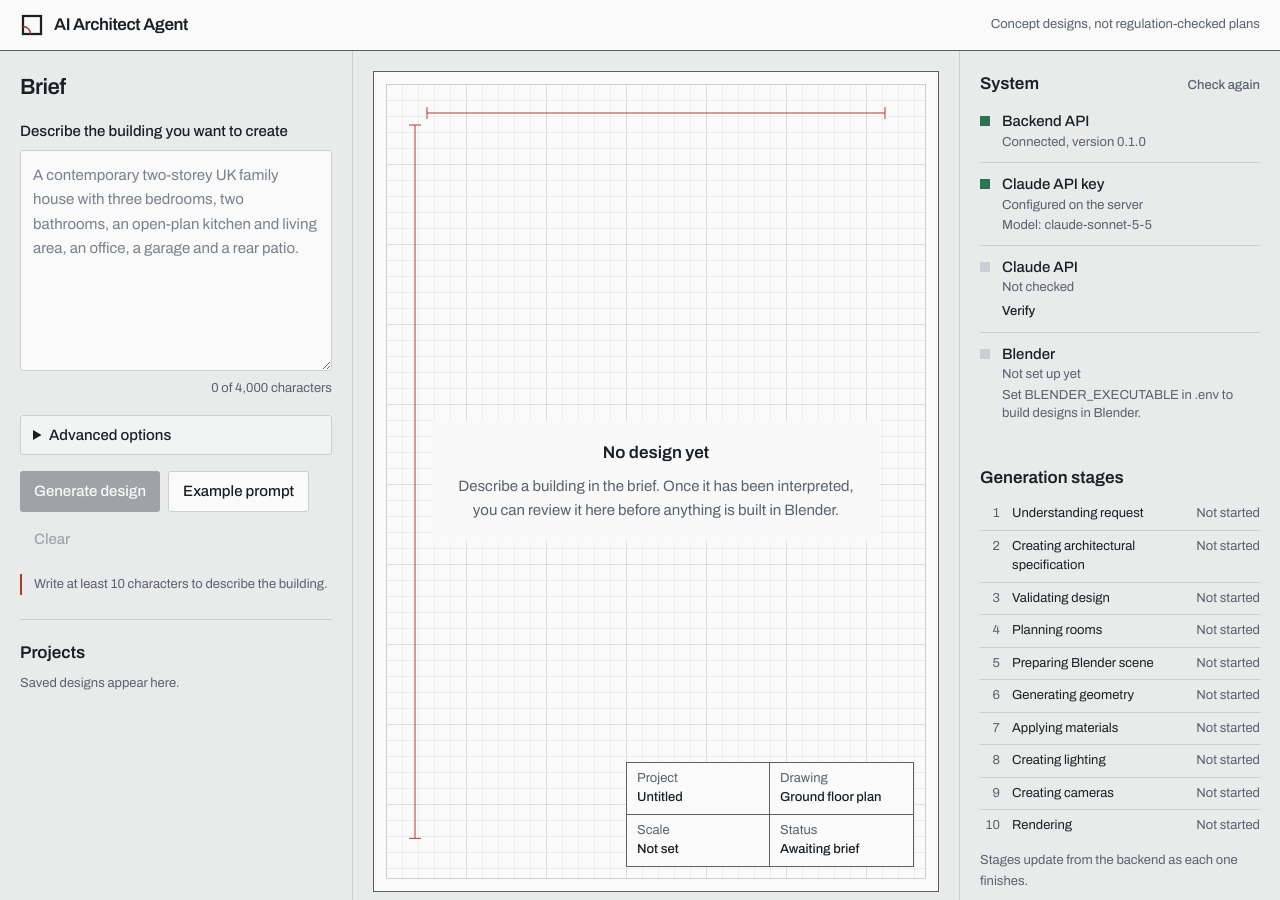
Scenario: App › explains a Claude billing error clearly, with Anthropic's reason in development
This screenshot has width=1280, height=900.
expect the text "Connected, version 0.1.0" is shown: met, box [1002,132,1146,152]
In the text box labelled "Describe the building you want to create": {"x": 176, "y": 260} [20,150,332,371], type "A two-storey family house with three bedrooms and a garage."
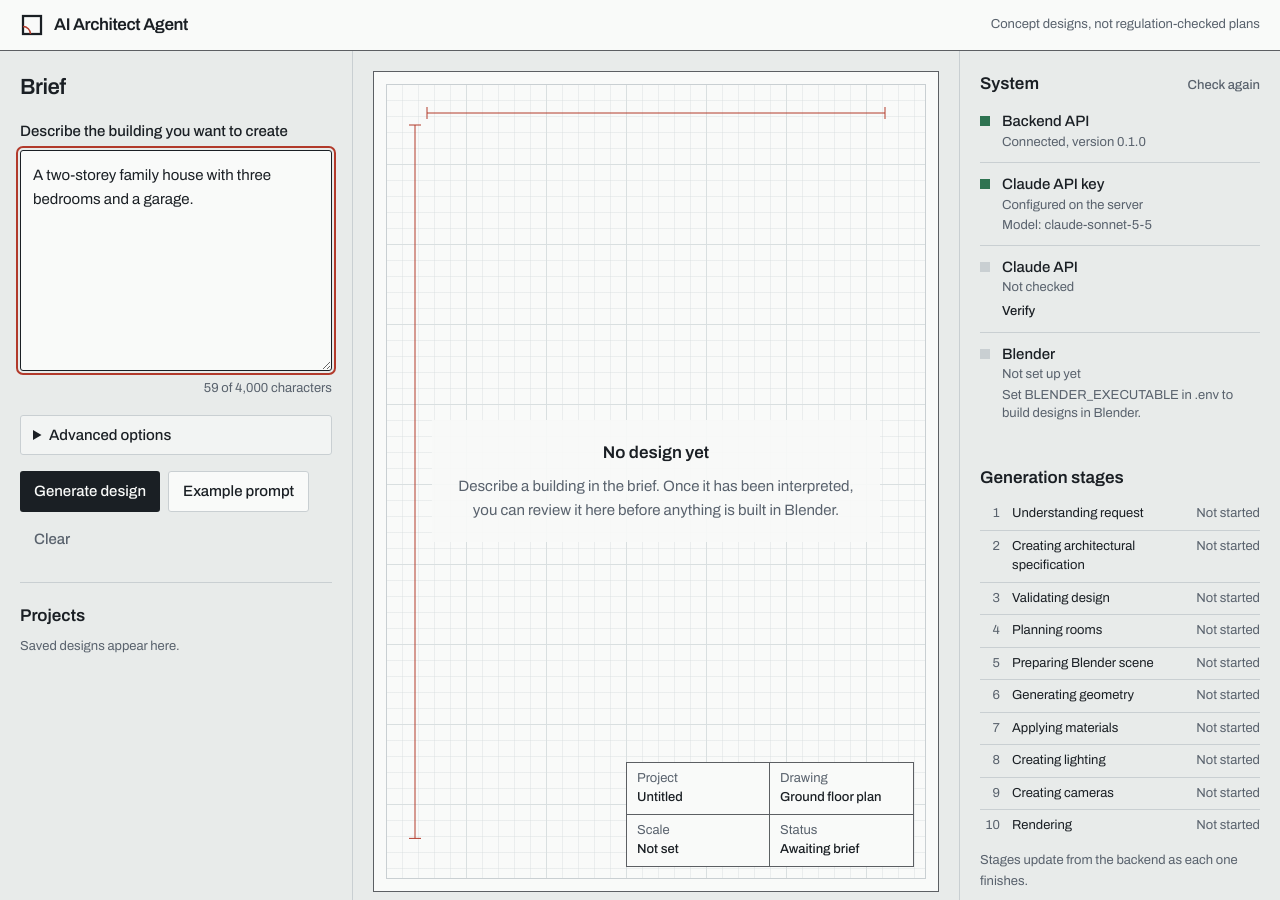
Click the button "Generate design": {"x": 90, "y": 491} [20,471,160,512]
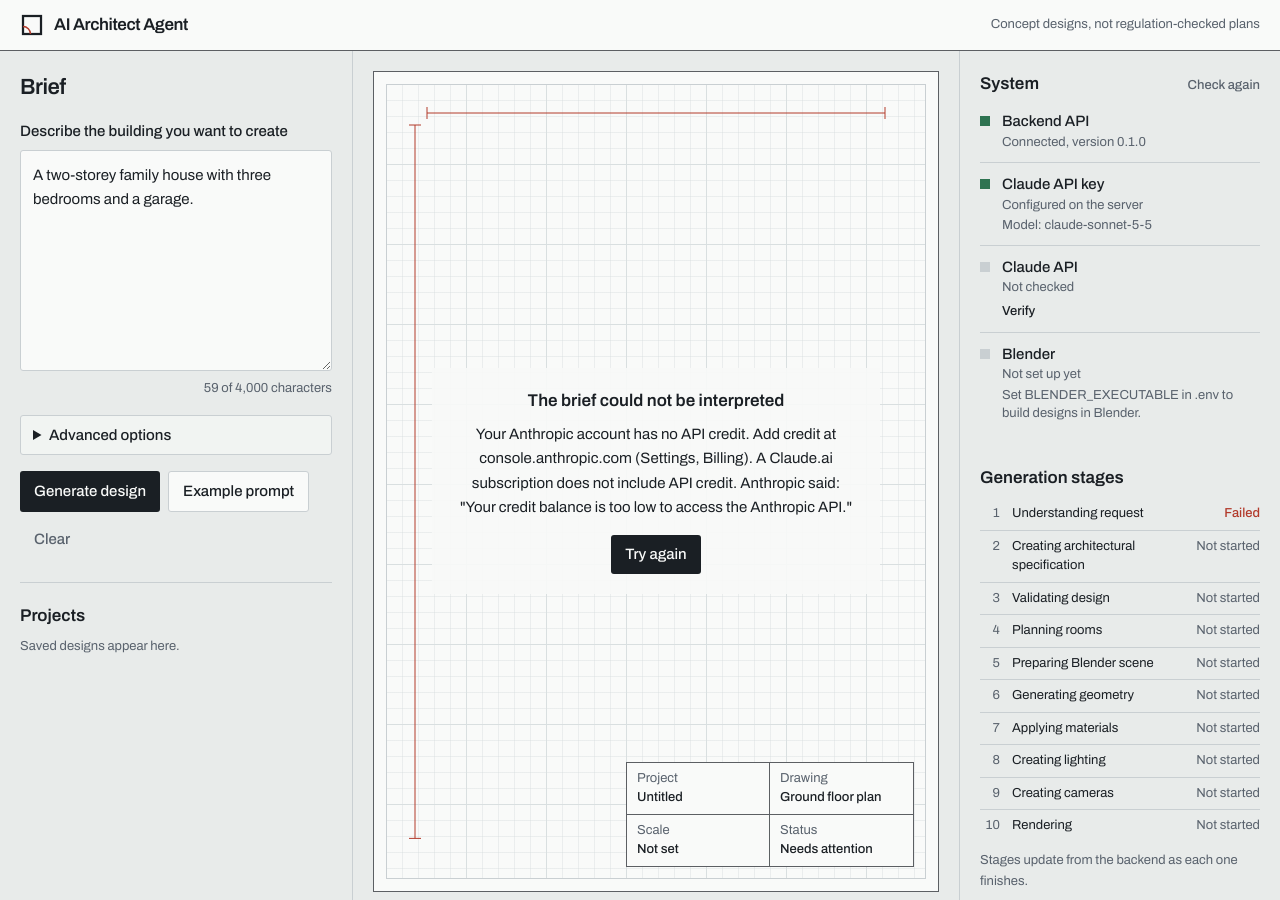
expect the text "Anthropic said: \"Your credit balance is too low" is shown: met, box [460,426,852,515]
